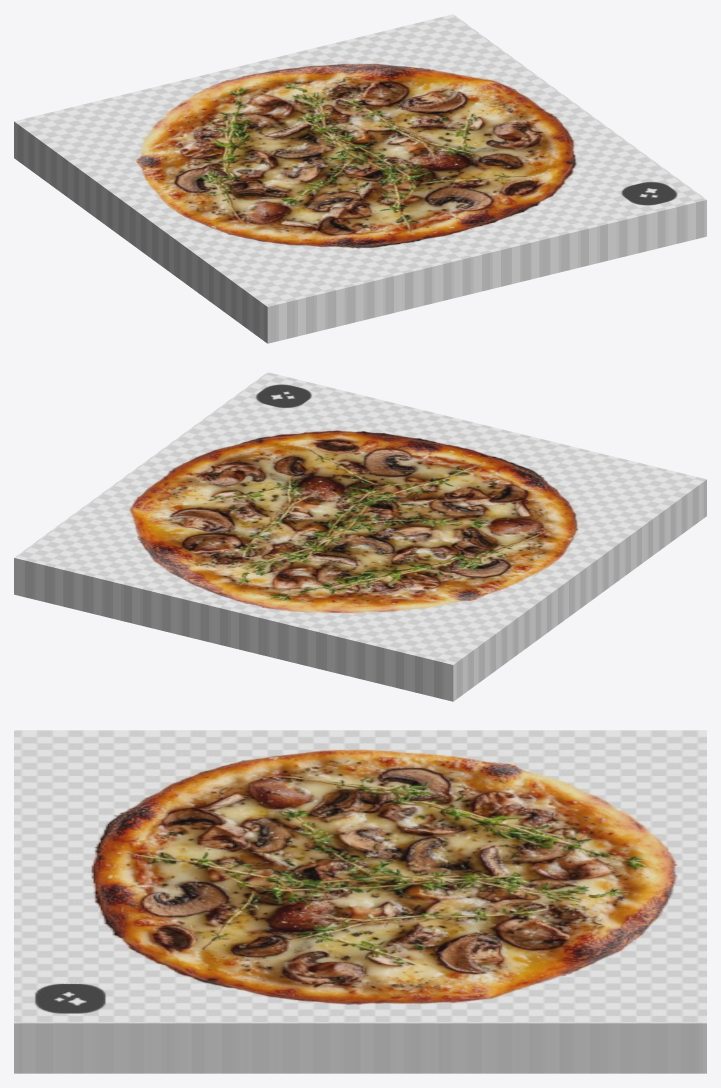
The model's file is cogutom.glb.
3 renders of one model, top to bottom at view 1: azimuth 30°, elevation 25°; view 2: azimuth 150°, elevation 25°; view 3: azimuth 270°, elevation 25°, orthographic. The views are drawn at different scales.
Bounding box in the file's own units: 0.1 × 0.008 × 0.1.
1 material, 1 textured.
